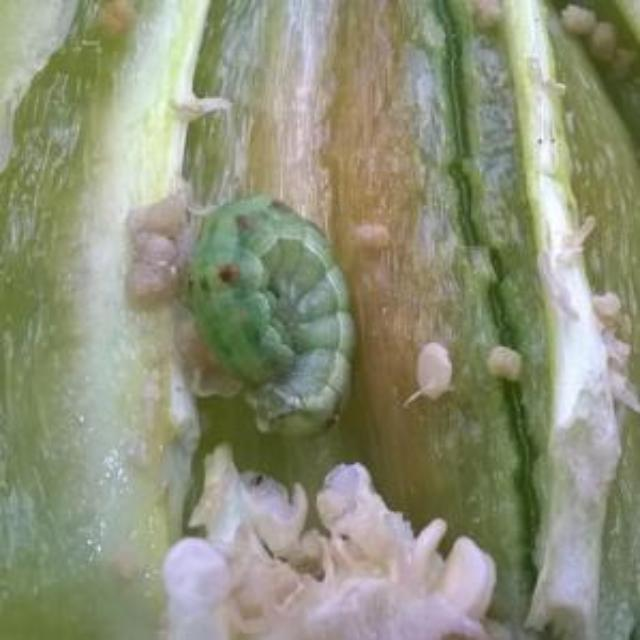Cotton bollworm: (156, 179, 382, 453)
